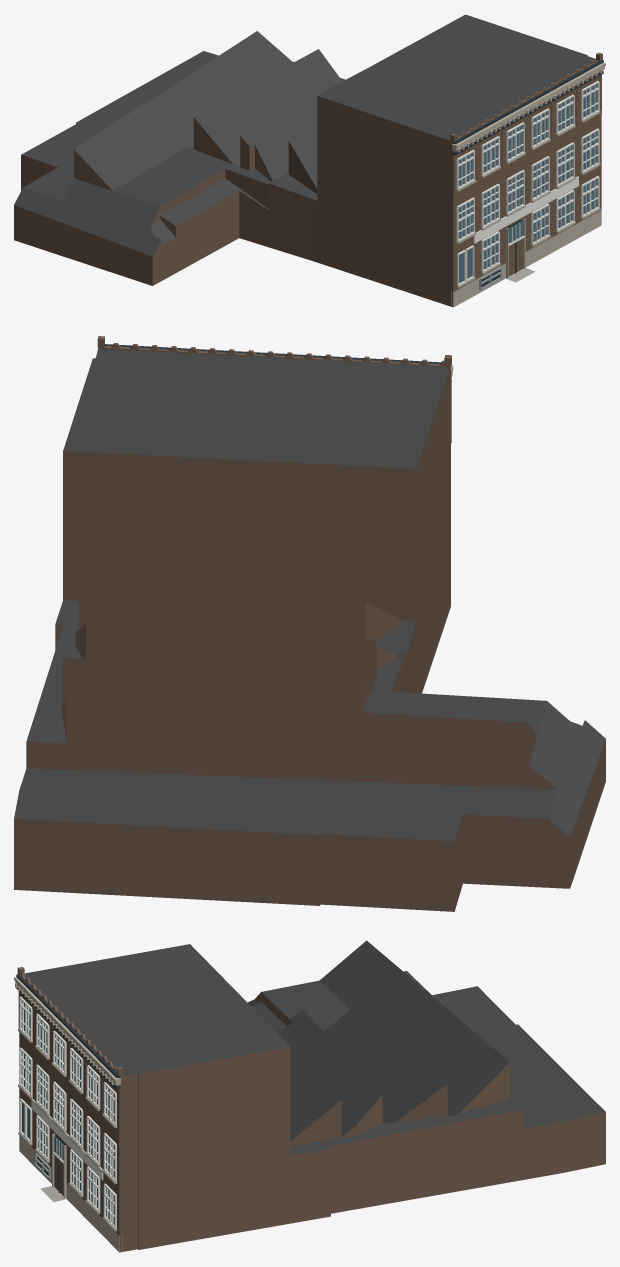
The model's file is el-tawheed.glb.
3 renders of one model, top to bottom at view 1: azimuth 30°, elevation 25°; view 2: azimuth 150°, elevation 25°; view 3: azimuth 270°, elevation 25°, orthographic. The views are drawn at different scales.
Visible parts, largest first — view 1: el-tawheed; view 2: el-tawheed; view 3: el-tawheed.
Boxes of the visible parts, bbox=[...] form: el-tawheed: bbox=[14, 14, 605, 307]; el-tawheed: bbox=[14, 336, 605, 911]; el-tawheed: bbox=[14, 940, 605, 1252].
Bounding box in the file's own units: 33.61 × 12.05 × 35.28.
